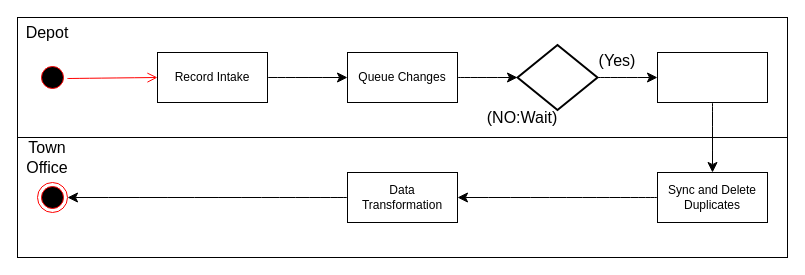
Some shapes in this 805 by 275 pixel diagram are drawn without their labels. Here are the shapes that lost their labels. From the top down, the box of each, then its label:
(516, 44, 598, 110): Signal
(656, 52, 768, 102): Sync Data
